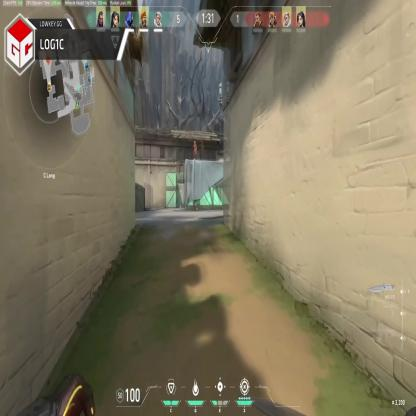enemy: (192, 139, 196, 159)
enemy_head: (194, 141, 196, 145)
